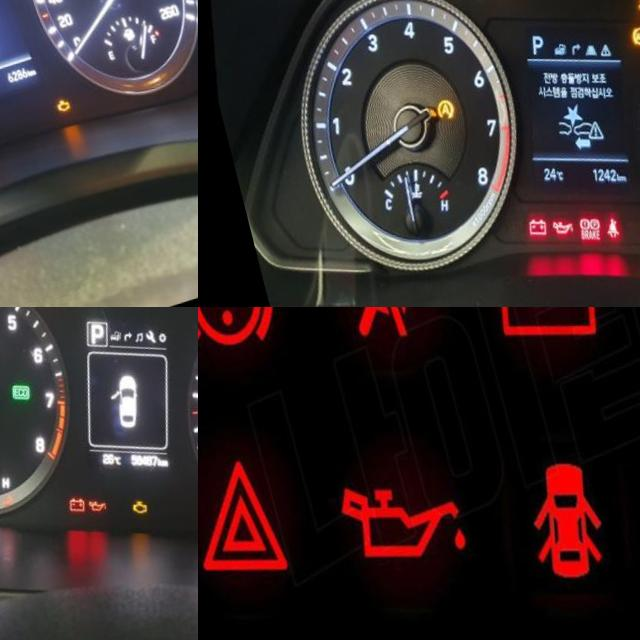Doors: (489, 466, 595, 601)
Low fuel level: (182, 519, 198, 539)
